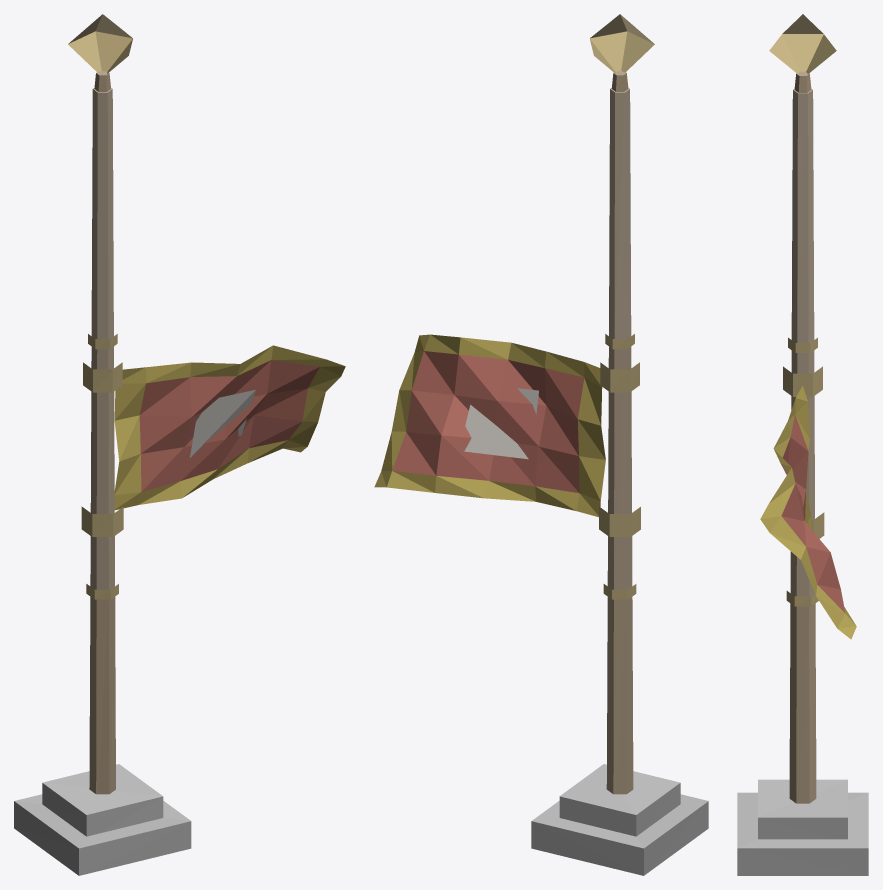
Rendered from flag.rect.chizhi__pole.ground.gaogan__midmast.glb.
The picture shows the model from 3 angles, left to right: view 1: azimuth 30°, elevation 25°; view 2: azimuth 150°, elevation 25°; view 3: azimuth 270°, elevation 25°; orthographic projection.
Parts seen in each view (by area): view 1: flag.rect.chizhi; view 2: flag.rect.chizhi; view 3: flag.rect.chizhi.
Boxes of the visible parts, x1,y1,x2,y2 form: flag.rect.chizhi: (14, 14, 345, 875); flag.rect.chizhi: (374, 14, 708, 875); flag.rect.chizhi: (737, 14, 868, 875).
Size of the model in its own units: 2.02 by 5.72 by 0.816.
